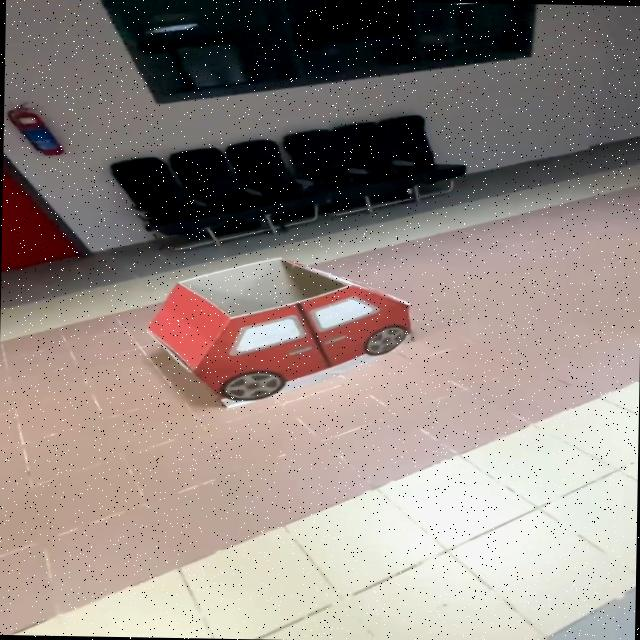red_car: (120, 249, 455, 417)
